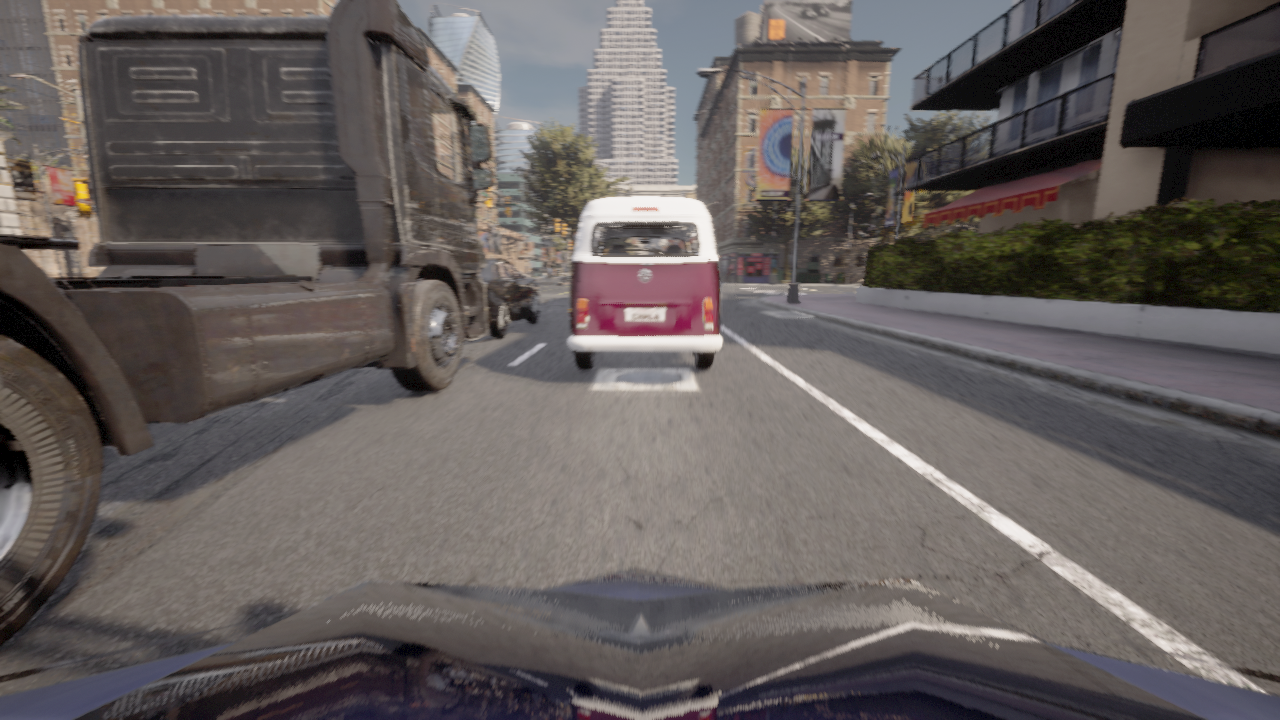cyclist: (0, 0, 493, 647), (0, 569, 1279, 719), (567, 198, 722, 370), (480, 259, 541, 338), (521, 273, 527, 278)
